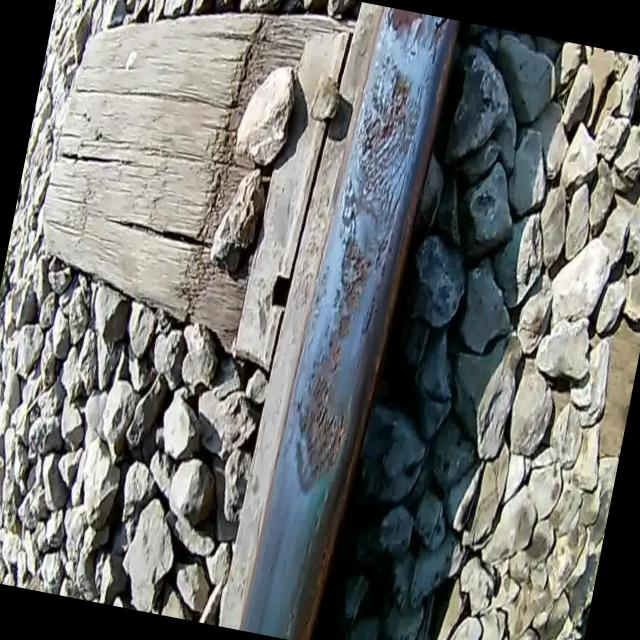Cracks: (353, 58, 433, 216), (367, 138, 416, 278), (329, 174, 368, 256), (358, 294, 379, 347), (300, 586, 319, 638), (404, 17, 426, 58)
Spallings: (284, 368, 356, 478), (356, 65, 415, 168), (330, 232, 376, 308), (320, 312, 353, 374), (425, 16, 452, 67)
Squats: (273, 225, 392, 524), (336, 50, 427, 236), (374, 7, 451, 72)
